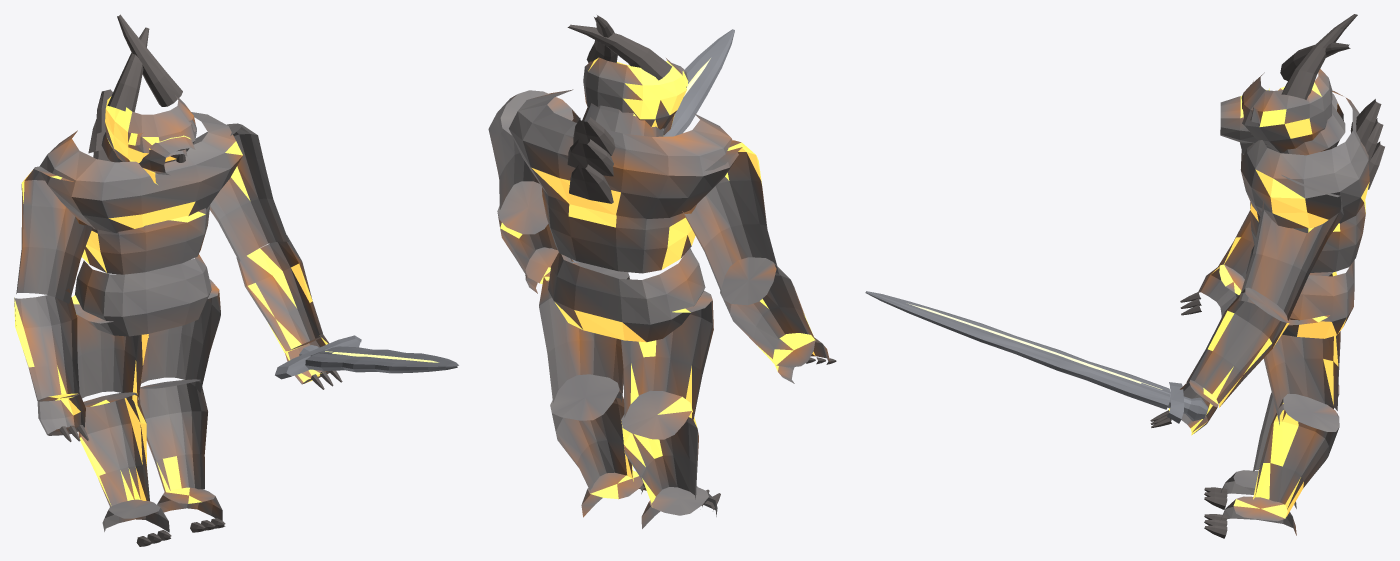
The model's file is devi.glb.
3 views of the same model, side by side, from view 1: azimuth 30°, elevation 25°; view 2: azimuth 150°, elevation 25°; view 3: azimuth 270°, elevation 25° (orthographic). The views are drawn at different scales.
Parts seen in each view (by area): view 1: ribcage, pelvis, pauldron_l, shin_r, shin_l, forearm_r, pauldron_r, forearm_l, belly, thigh_l, thigh_r, skull (+9 smaller); view 2: ribcage, pelvis, belly, pauldron_l, shin_l, shin_r, thigh_l, forearm_l, thigh_r, skull, forearm_r, pauldron_r (+11 smaller); view 3: ribcage, shin_r, forearm_r, pauldron_r, blade, thigh_r, skull, pelvis, belly, horn_r_geo, foot_r_geo, hand_l (+9 smaller).
Boxes of the visible parts, box(x1,y1,x2,y2) form: ribcage: box(39, 112, 242, 233); pelvis: box(75, 254, 211, 336); pauldron_l: box(16, 166, 92, 303); shin_r: box(139, 379, 207, 493); shin_l: box(78, 392, 149, 507); forearm_r: box(236, 235, 322, 352); pauldron_r: box(193, 123, 288, 262); forearm_l: box(14, 288, 79, 401); belly: box(75, 205, 210, 274); thigh_l: box(71, 295, 148, 406); thigh_r: box(140, 279, 220, 393); skull: box(105, 95, 196, 163); ribcage: box(509, 89, 738, 218); pelvis: box(548, 248, 705, 342); belly: box(542, 187, 696, 273); pauldron_l: box(682, 140, 779, 295); shin_l: box(621, 390, 698, 504); shin_r: box(550, 374, 633, 492); thigh_l: box(621, 290, 713, 421); forearm_l: box(720, 257, 814, 364); thigh_r: box(539, 262, 629, 402); skull: box(583, 57, 686, 129); forearm_r: box(497, 181, 572, 276); pauldron_r: box(488, 90, 579, 209); ribcage: box(1240, 90, 1369, 228); shin_r: box(1253, 394, 1339, 516); forearm_r: box(1186, 287, 1289, 407); pauldron_r: box(1238, 174, 1343, 320); blade: box(865, 291, 1170, 409); thigh_r: box(1263, 315, 1340, 424); skull: box(1241, 69, 1332, 152); pelvis: box(1246, 245, 1354, 338); belly: box(1250, 200, 1365, 272); horn_r_geo: box(1281, 14, 1357, 99); foot_r_geo: box(1221, 496, 1296, 535); hand_l: box(1198, 264, 1244, 317).
Size of the model in its own units: 2.97 by 4.56 by 4.2.
